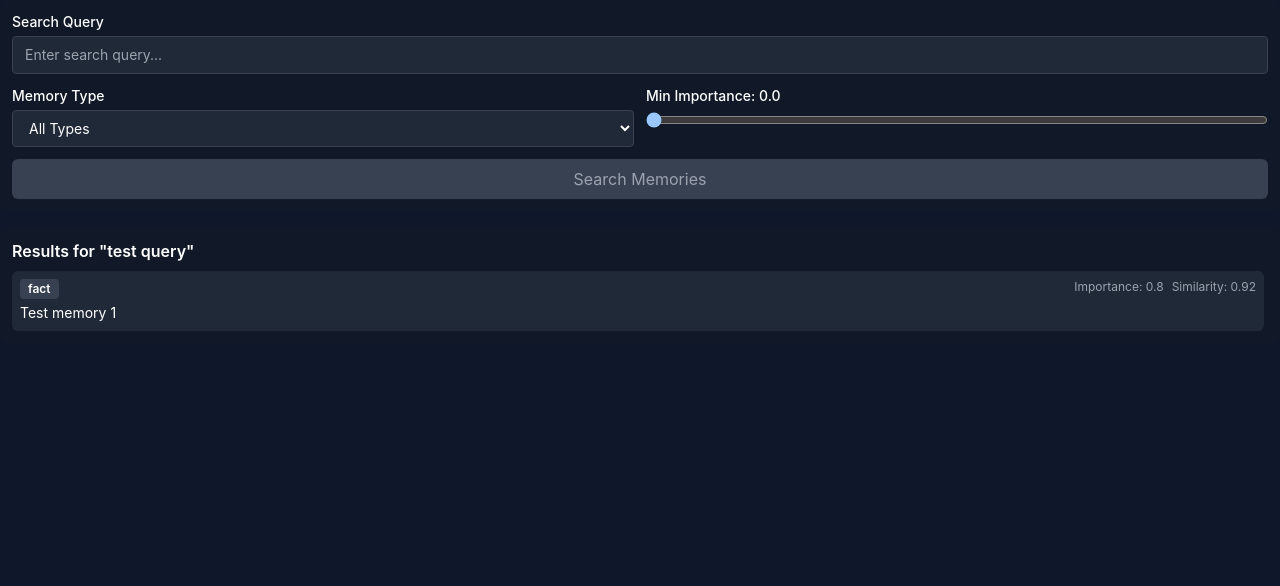
it: MemorySearchInterface › displays memory details when a result is clicked
expect the text "Memory Details" is not shown: met
// Click a search result
Click the text "Test memory 1". click: (68, 312)
box: [20,304,116,321]
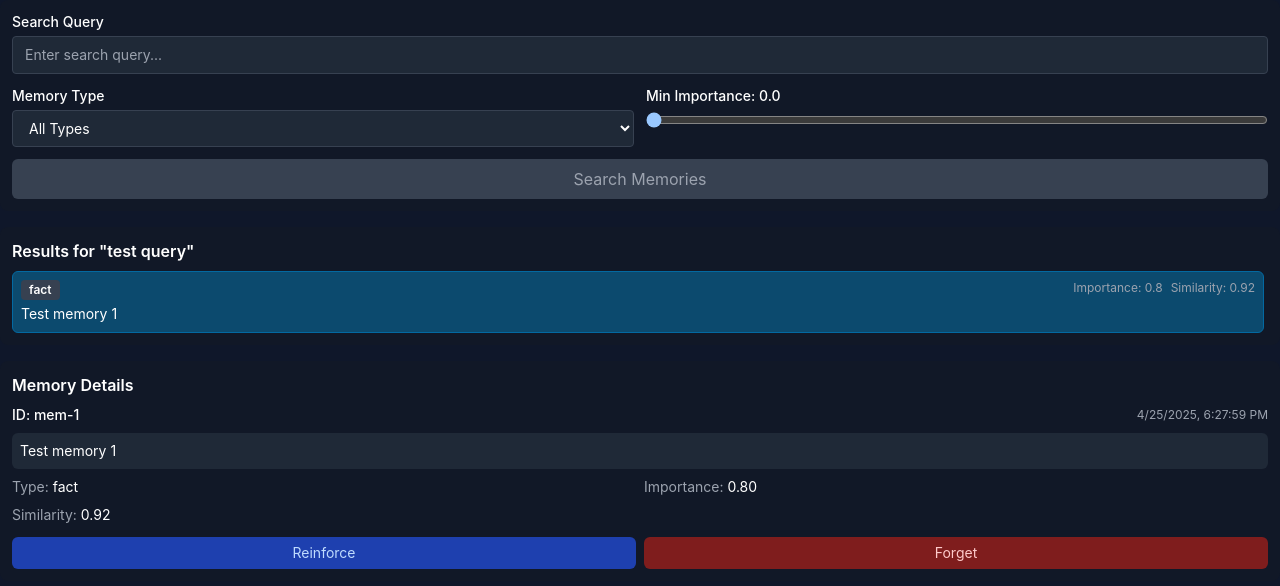
expect the heading "Memory Details" is shown: met, box [12,375,134,395]
expect the text "ID: mem-1" is shown: met, box [12,405,79,425]
expect the button "Reinforce" is shown: met, box [12,537,636,569]
